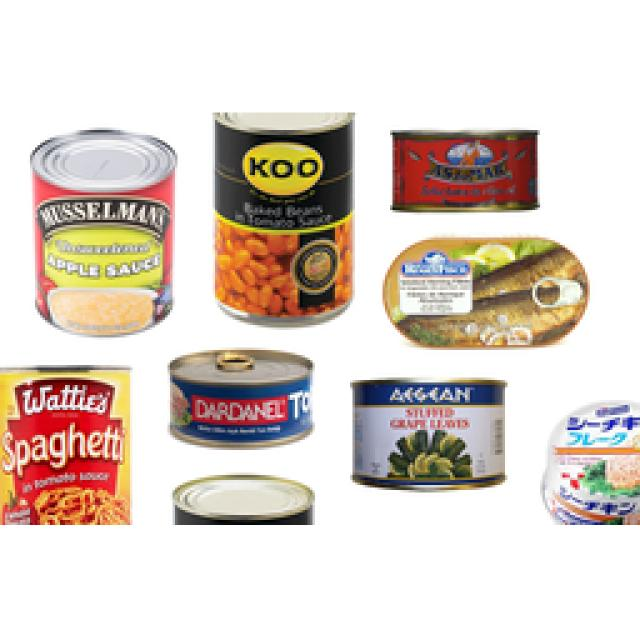alumunium: (30, 130, 175, 335), (215, 112, 350, 318), (382, 238, 585, 342), (0, 368, 128, 522), (352, 380, 502, 485), (172, 350, 310, 445), (542, 402, 638, 522), (392, 130, 535, 208), (175, 475, 310, 522)
